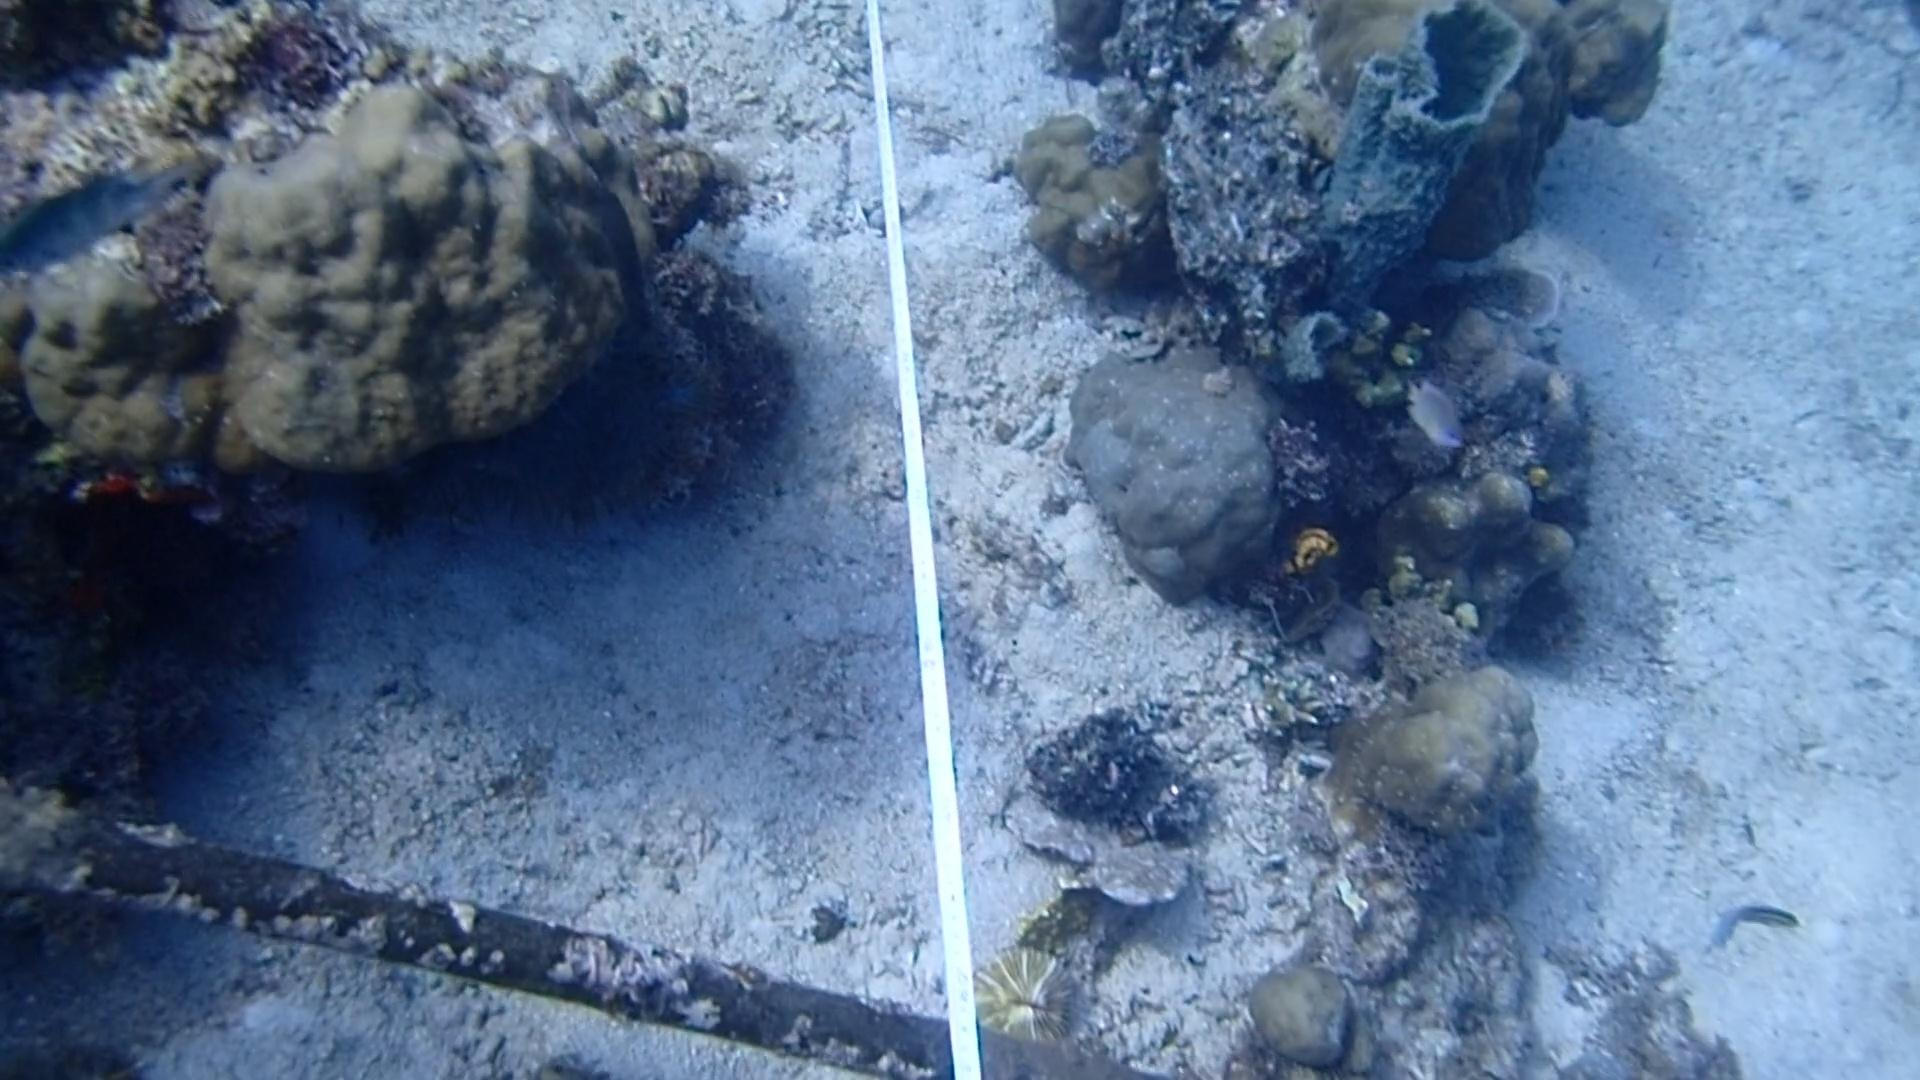Blue Fish: (0, 142, 196, 287)
Blue Nose Fish: (1395, 369, 1481, 463)
Dark Fish: (572, 190, 674, 336)
Striped Fish: (1704, 884, 1813, 953)
